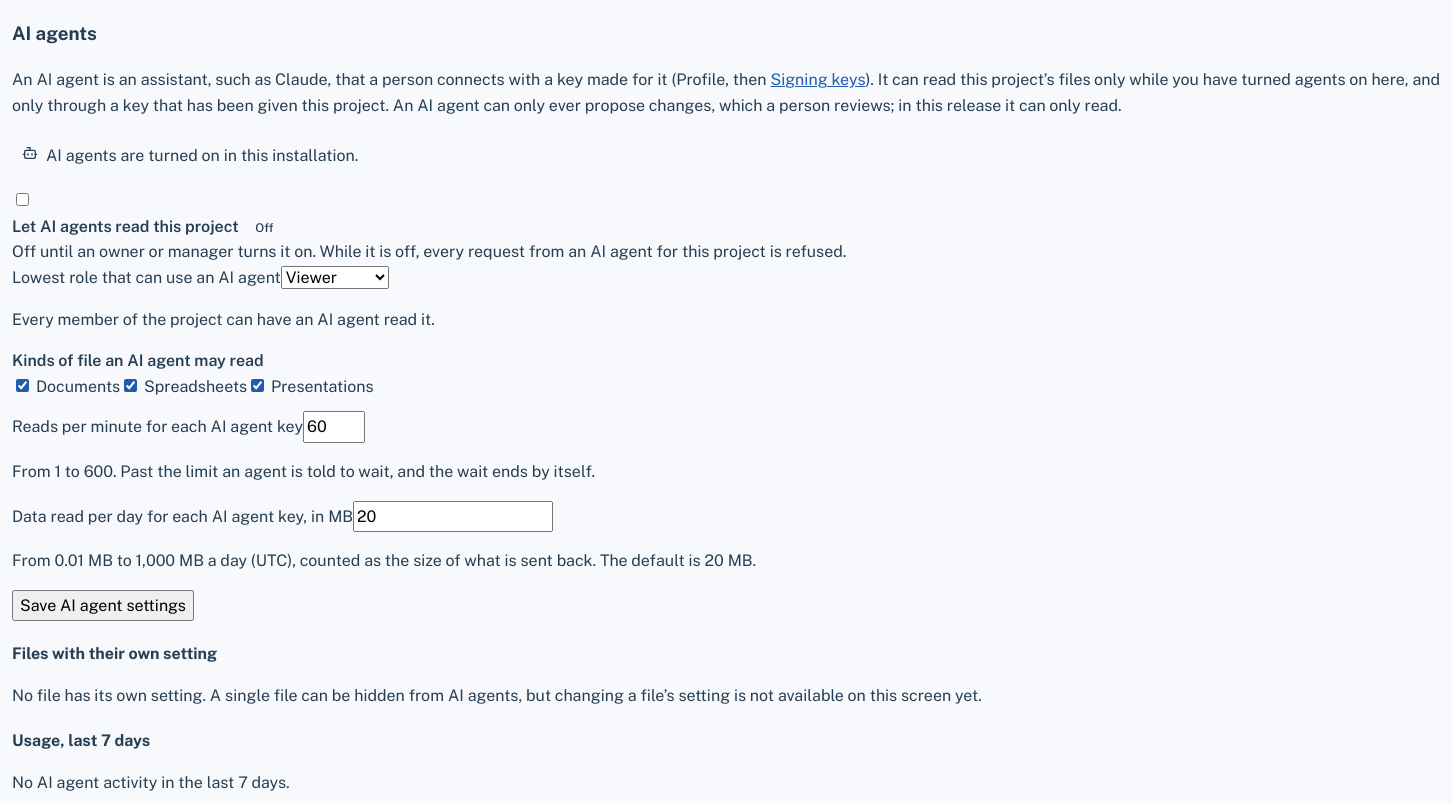
Test: ProjectAgentPolicy: saving › needs at least one kind of file
The image size is (1452, 803).
Click the checkbox labelled "Documents": (22, 385) [16, 379, 29, 392]
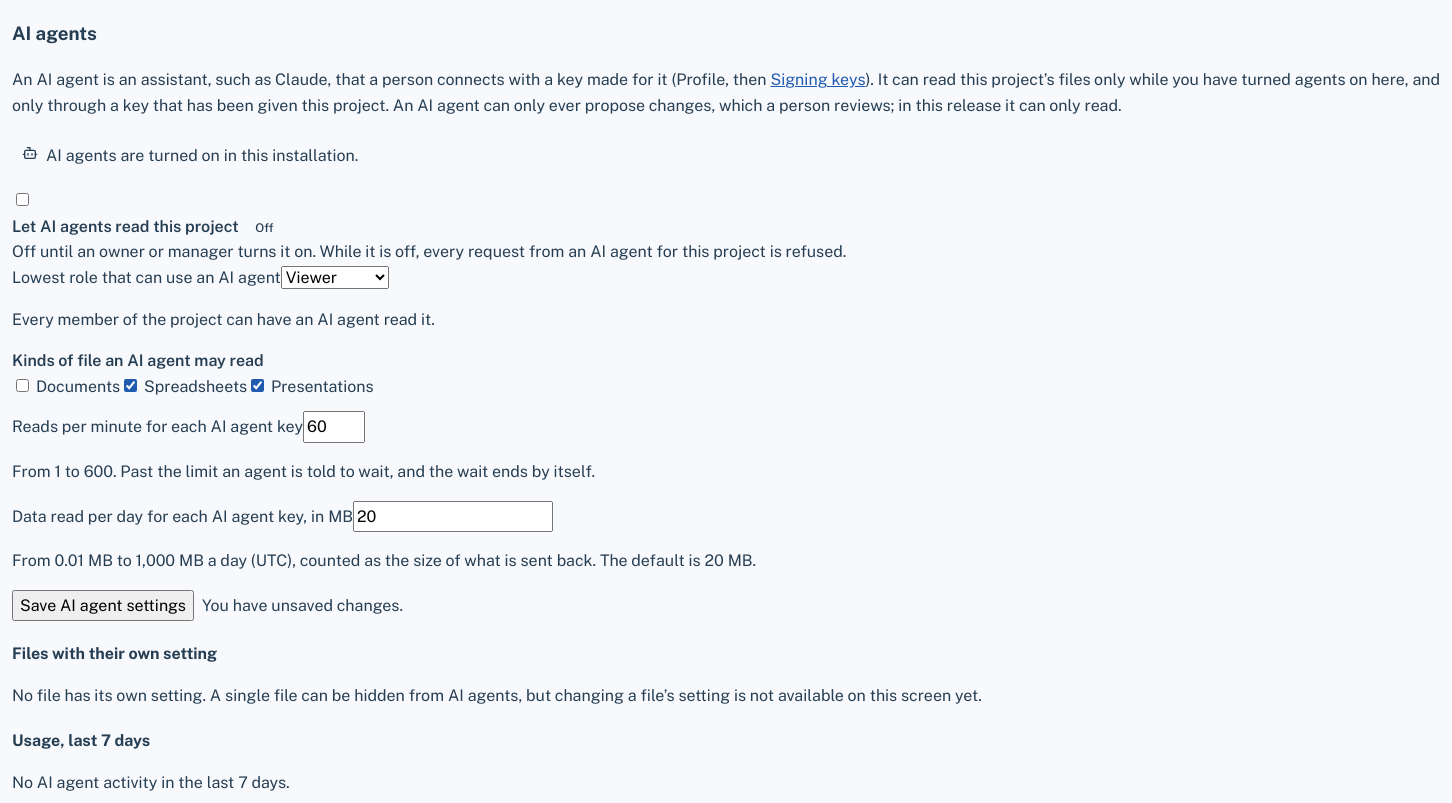
Click the checkbox labelled "Spreadsheets": (131, 385) [124, 379, 137, 392]
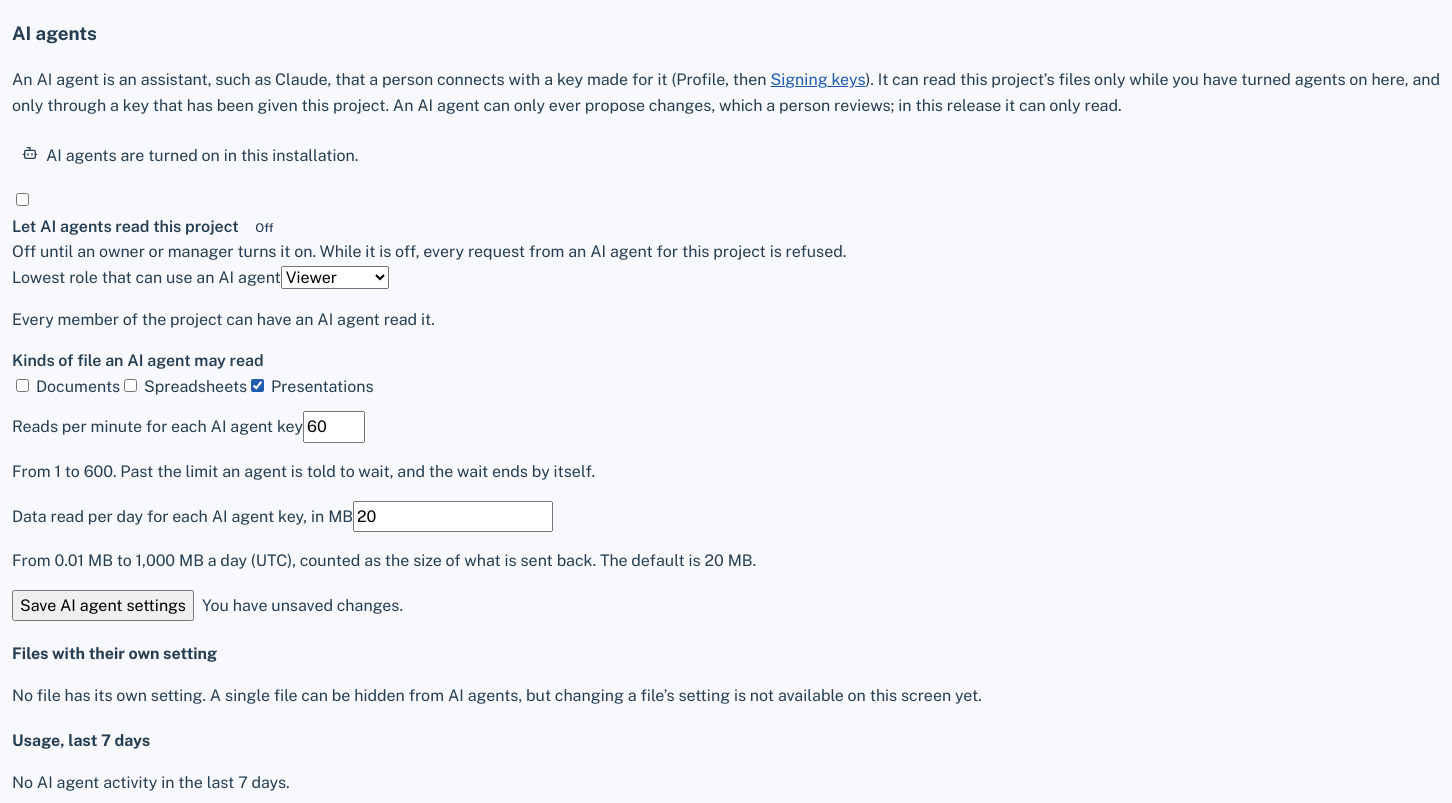
Click the checkbox labelled "Presentations": (258, 385) [251, 379, 264, 392]
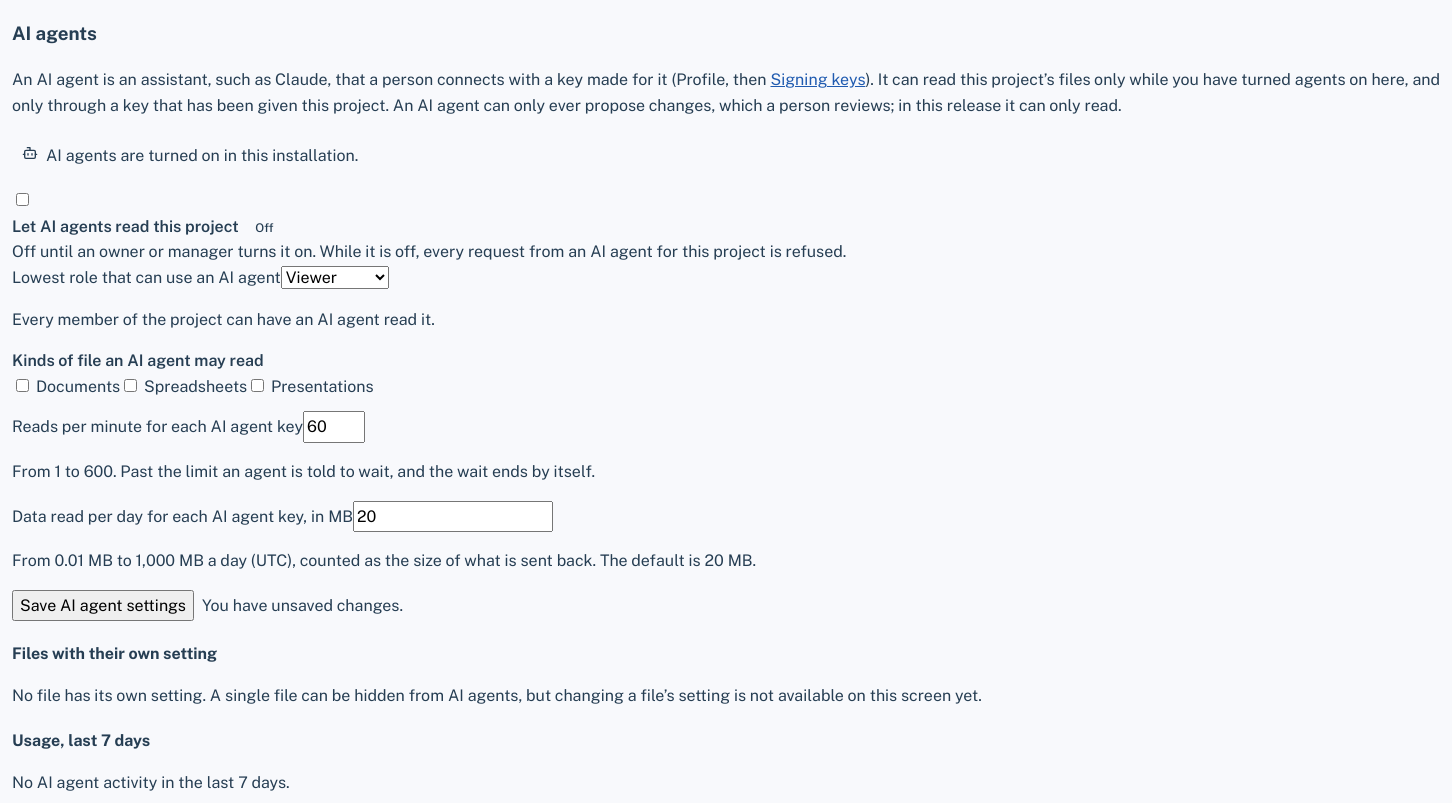
Click the button "Save AI agent settings": (103, 606) [12, 590, 194, 621]
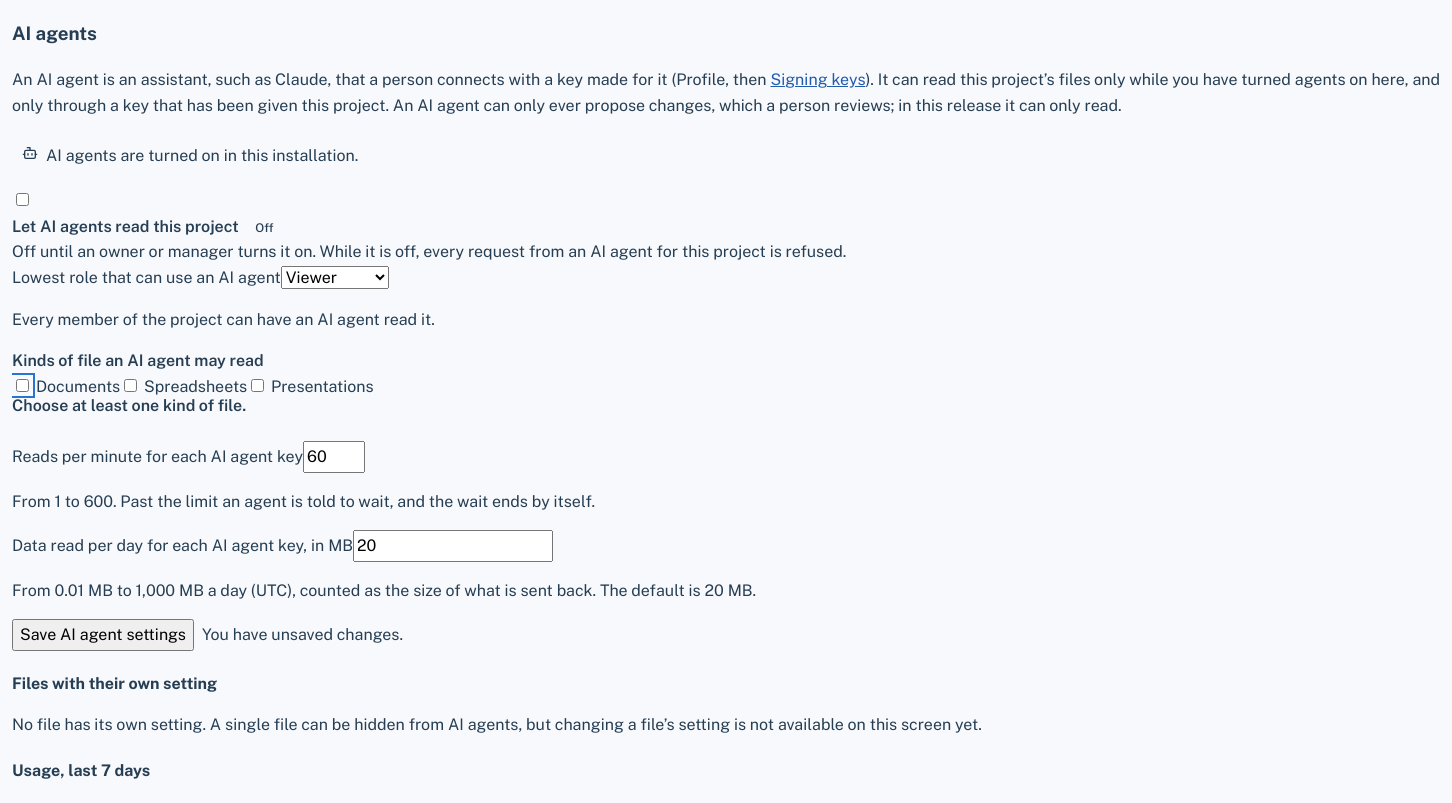
expect the text with class "field-problem" reads "Choose at least one kind of file.": met, box [12, 396, 246, 415]
